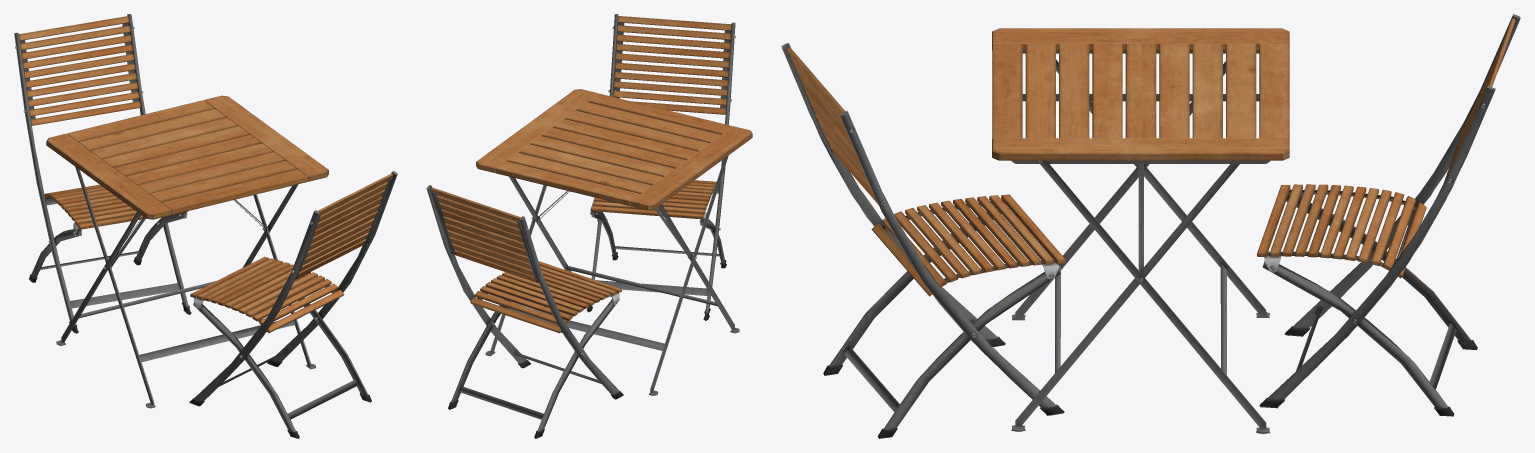
Rendered from ph_outdoor_table_chair_set_01.glb.
3 renders of one model, left to right at view 1: azimuth 30°, elevation 25°; view 2: azimuth 150°, elevation 25°; view 3: azimuth 270°, elevation 25°, orthographic. The views are drawn at different scales.
Visible parts, largest first — view 1: outdoor_table_chair_set_01_chair_01; view 2: outdoor_table_chair_set_01_chair_01; view 3: outdoor_table_chair_set_01_chair_01.
Part boxes in pixels (left/top/right/bottom): outdoor_table_chair_set_01_chair_01: left=14, top=14, right=397, bottom=438; outdoor_table_chair_set_01_chair_01: left=426, top=14, right=752, bottom=438; outdoor_table_chair_set_01_chair_01: left=781, top=14, right=1520, bottom=438.
Size of the model in its own units: 0.7421 by 0.8587 by 1.72.
Materials: 2 (2 with a texture image).
